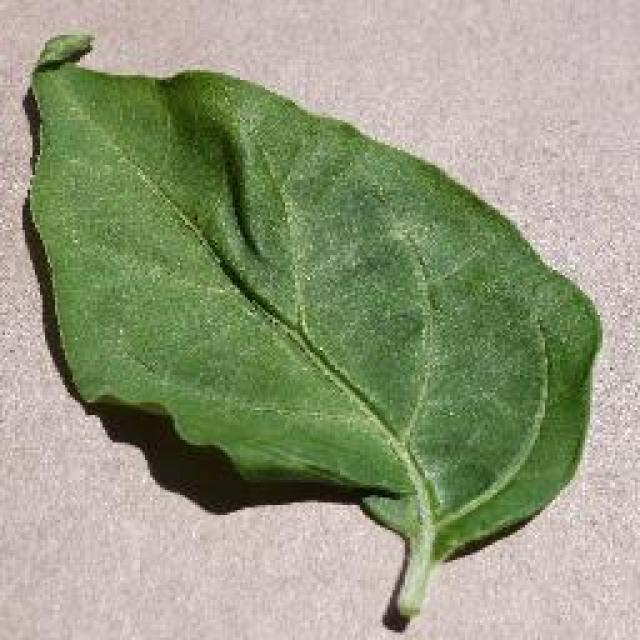Chilli_Healthy: (20, 28, 602, 630)
